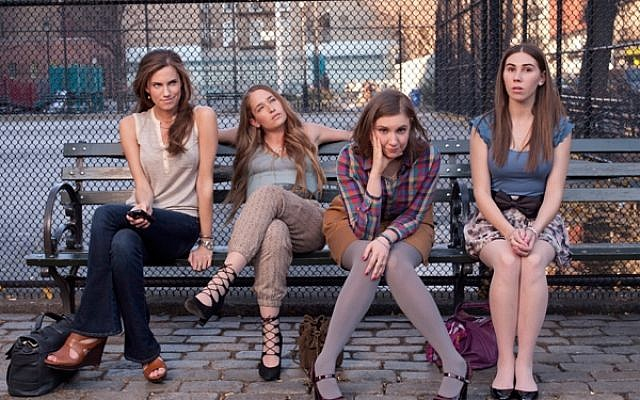Person: (43, 43, 223, 383), (314, 94, 476, 400), (180, 79, 331, 391), (452, 32, 577, 400)
